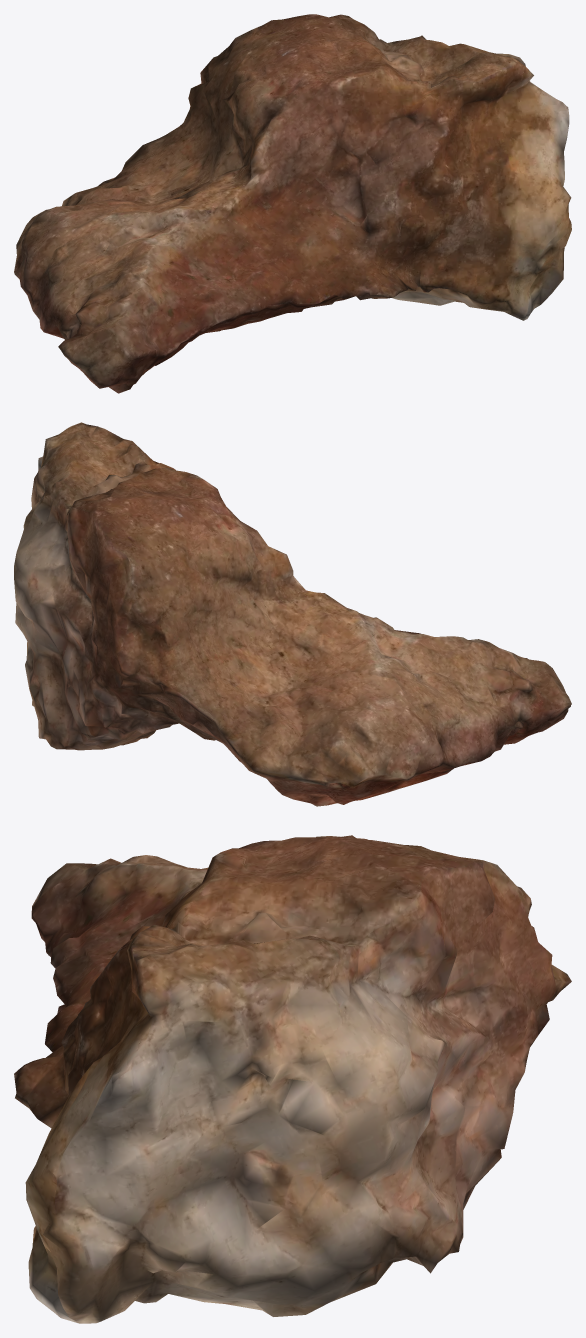
Rendered from stone_01.glb.
3 renders of one model, top to bottom at view 1: azimuth 30°, elevation 25°; view 2: azimuth 150°, elevation 25°; view 3: azimuth 270°, elevation 25°, orthographic. The views are drawn at different scales.
Parts seen in each view (by area): view 1: stone_01; view 2: stone_01; view 3: stone_01.
Boxes of the visible parts, bbox=[...] form: stone_01: bbox=[14, 14, 571, 393]; stone_01: bbox=[14, 422, 571, 806]; stone_01: bbox=[14, 835, 571, 1323].
Bounding box in the file's own units: 0.1469 × 0.0714 × 0.089.
Materials: 1 (1 with a texture image).
